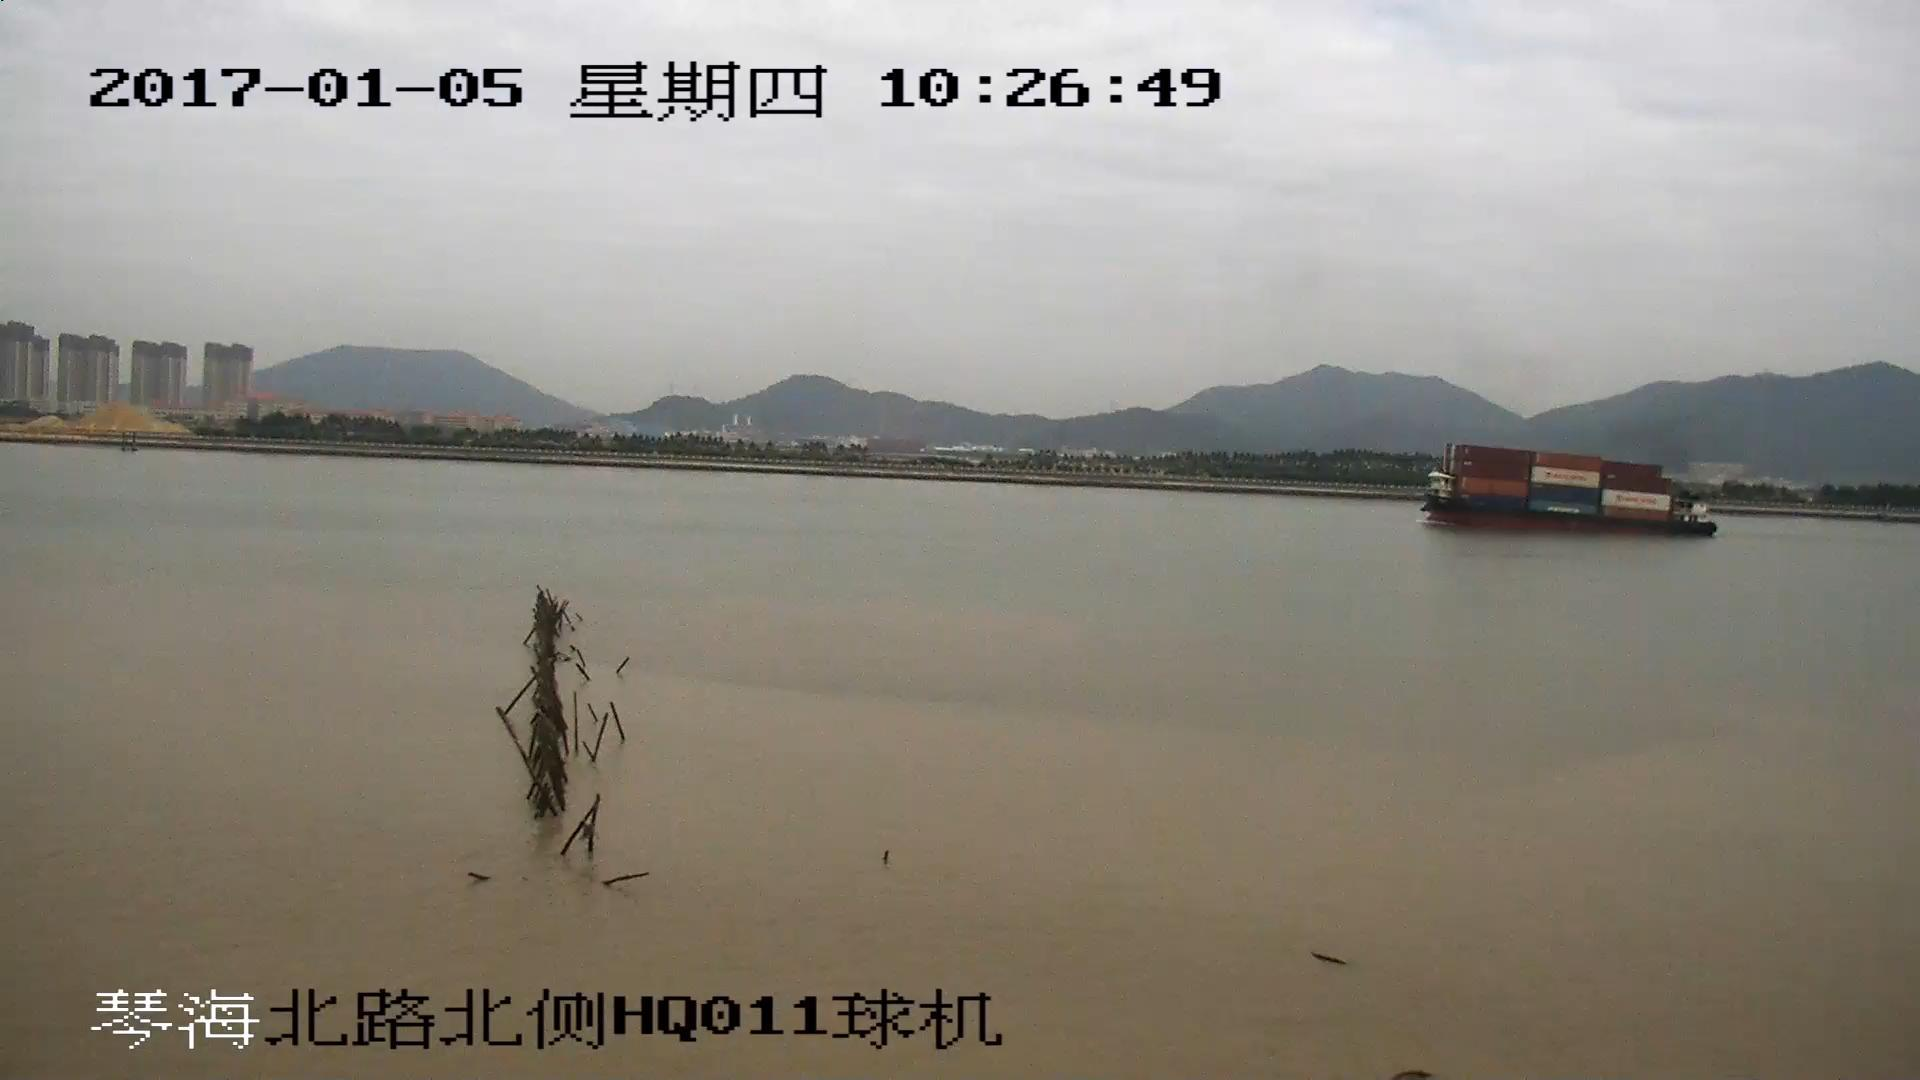Ship: (1423, 446, 1717, 541)
